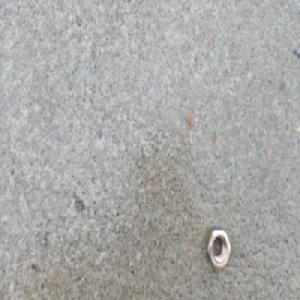Nut: (205, 227, 231, 271)
